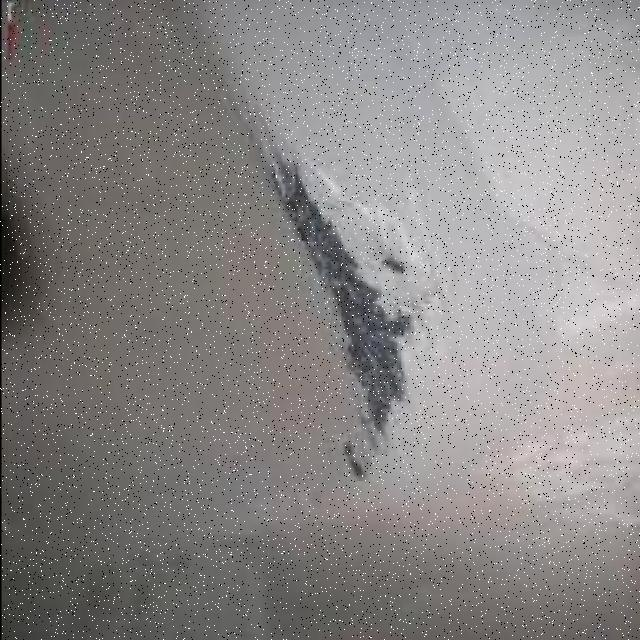damage: (267, 166, 435, 479)
